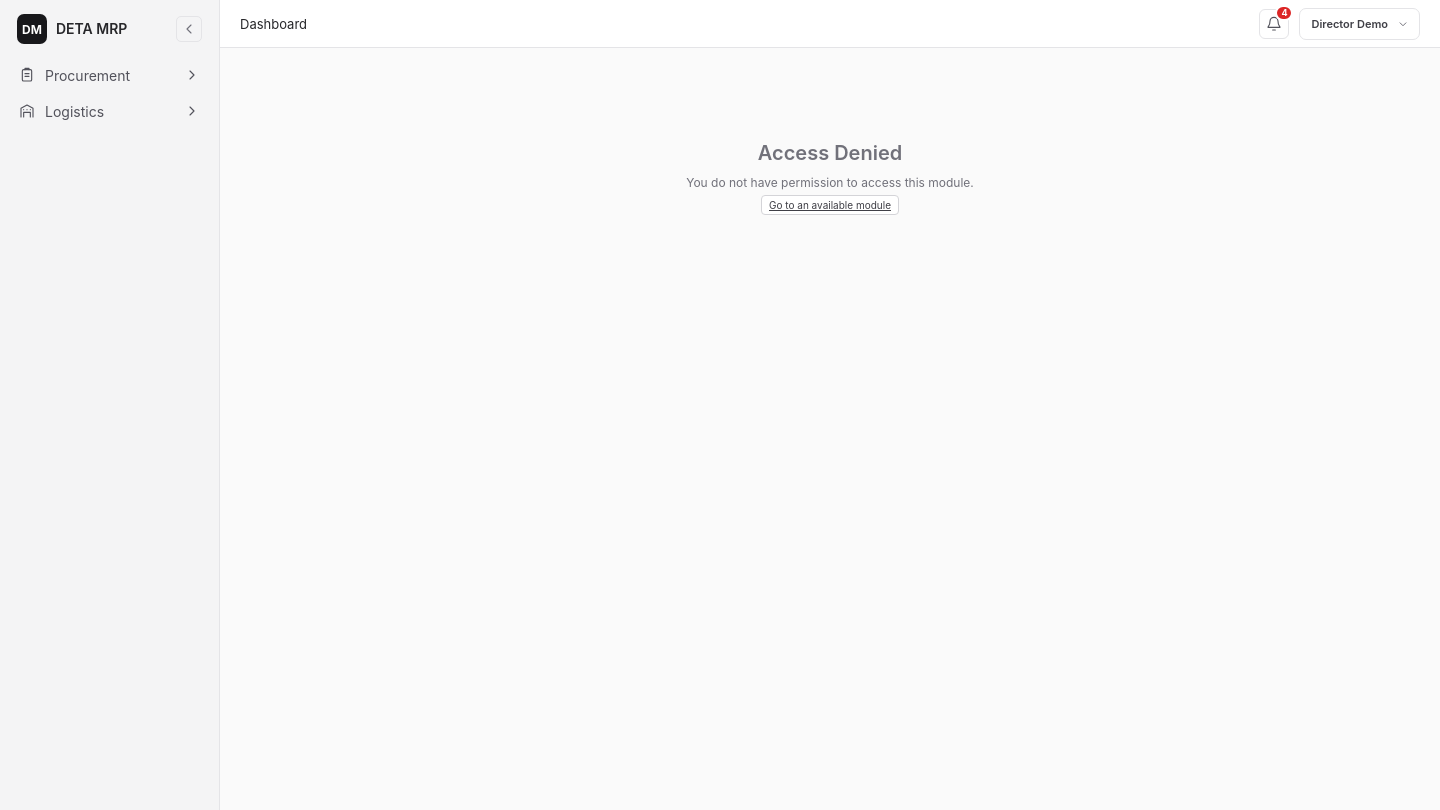
Test case: AppShell › preserves the last good notification snapshot when refresh fails
Expected: the text with test id "notification-badge" reads "4", [1281,7,1288,18]
What coordinates should you click on to do the following:
click the button named "Notifications"
I would click on:
 (1274, 24)
Its box is [1260,8,1290,38].
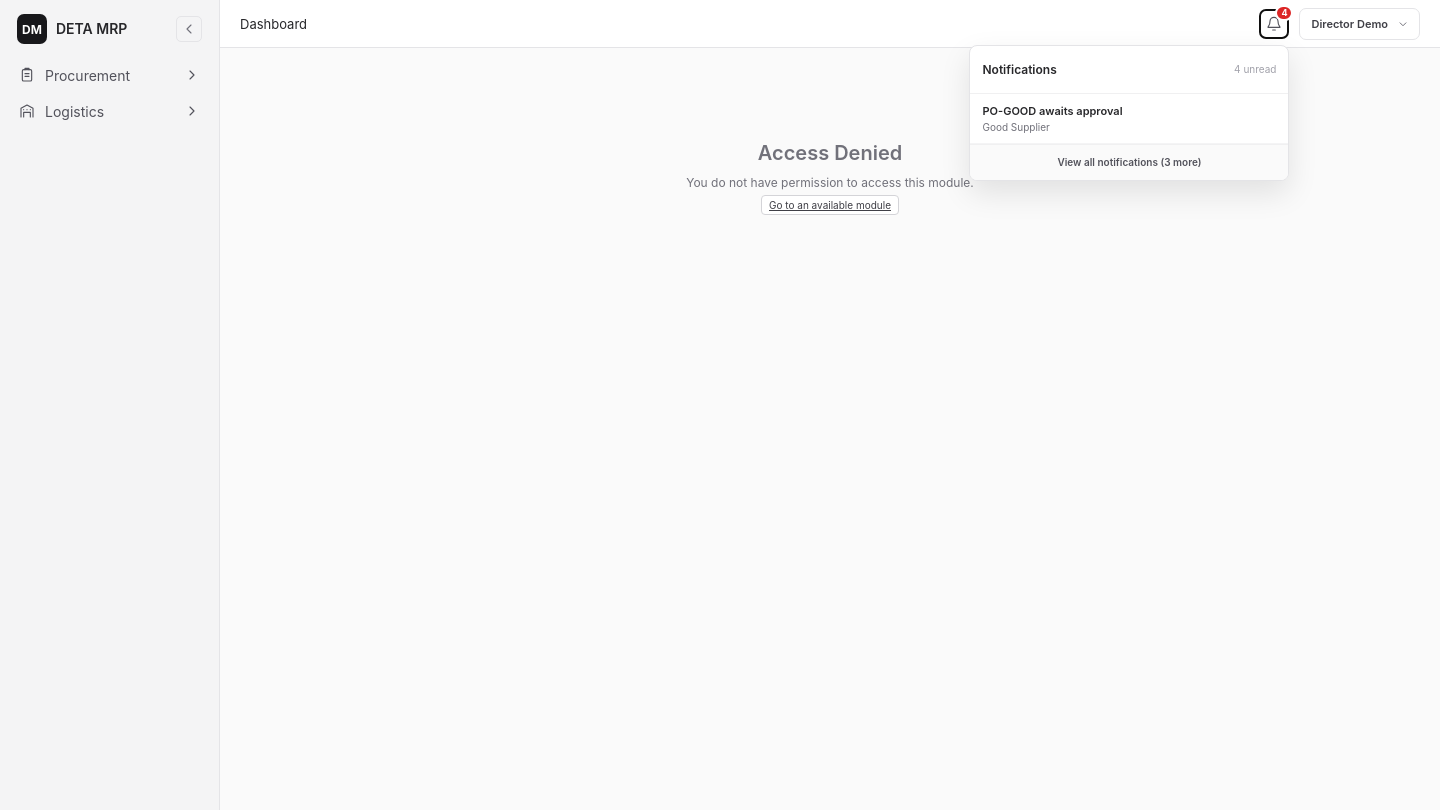
Expected: the text with test id "notification-badge" reads "4", [1281,7,1288,18]
Now the text "PO-GOOD awaits approval" is shown, box [982,104,1123,118]
